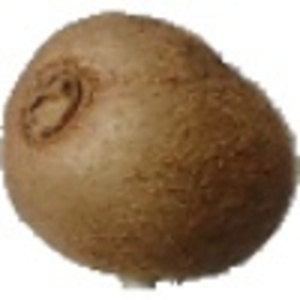kiwi: (1, 1, 300, 289)
